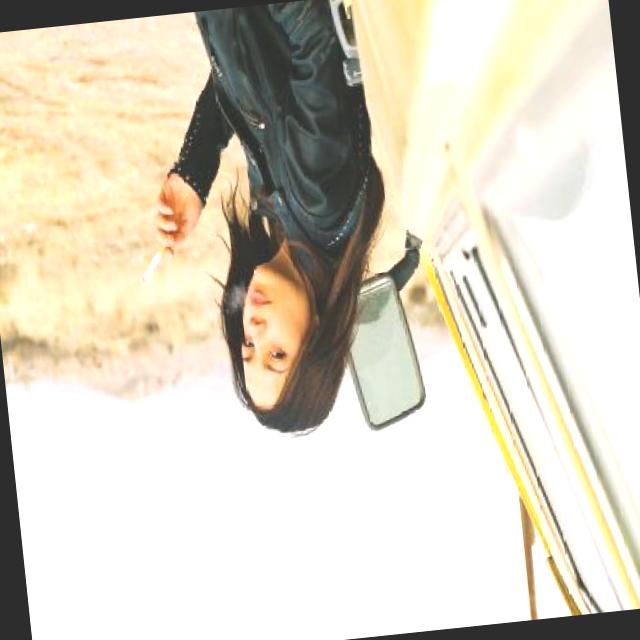smoke: (130, 235, 180, 296)
